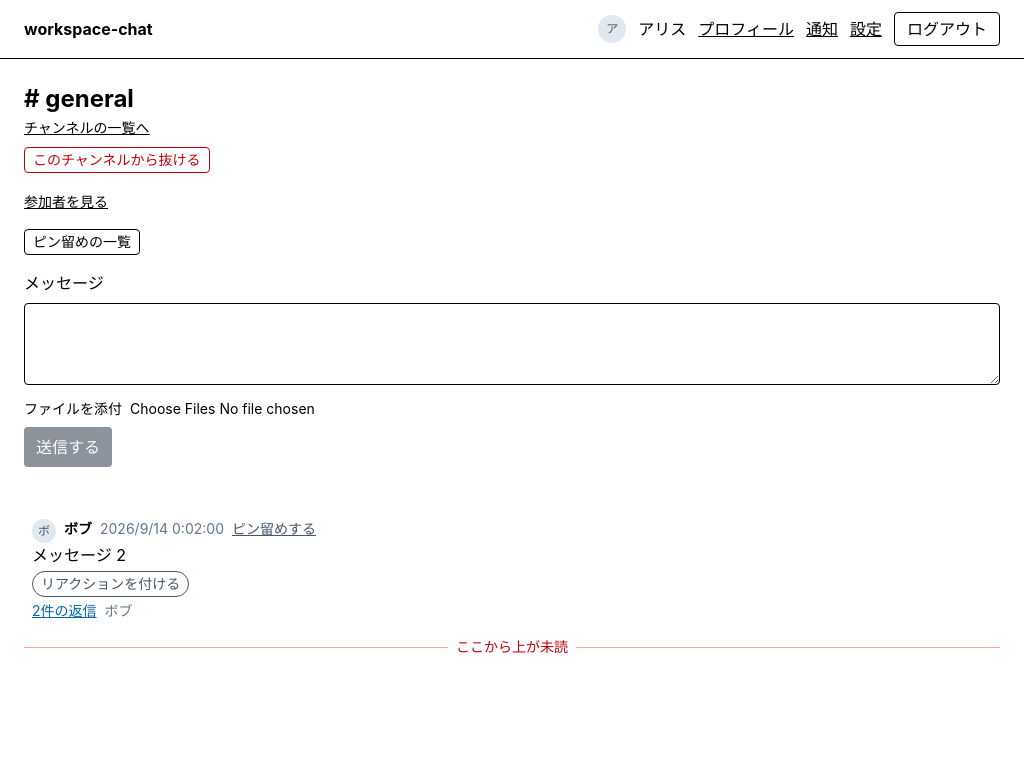
スレッド › 「N件の返信」を押すとスレッドを開き、親を先頭に、返信を上が新しい順に並べる（#608）。返信はトークンを付けて読む
This screenshot has width=1024, height=768.
Click the button "2件の返信" at (64, 611), box [32, 601, 96, 621]
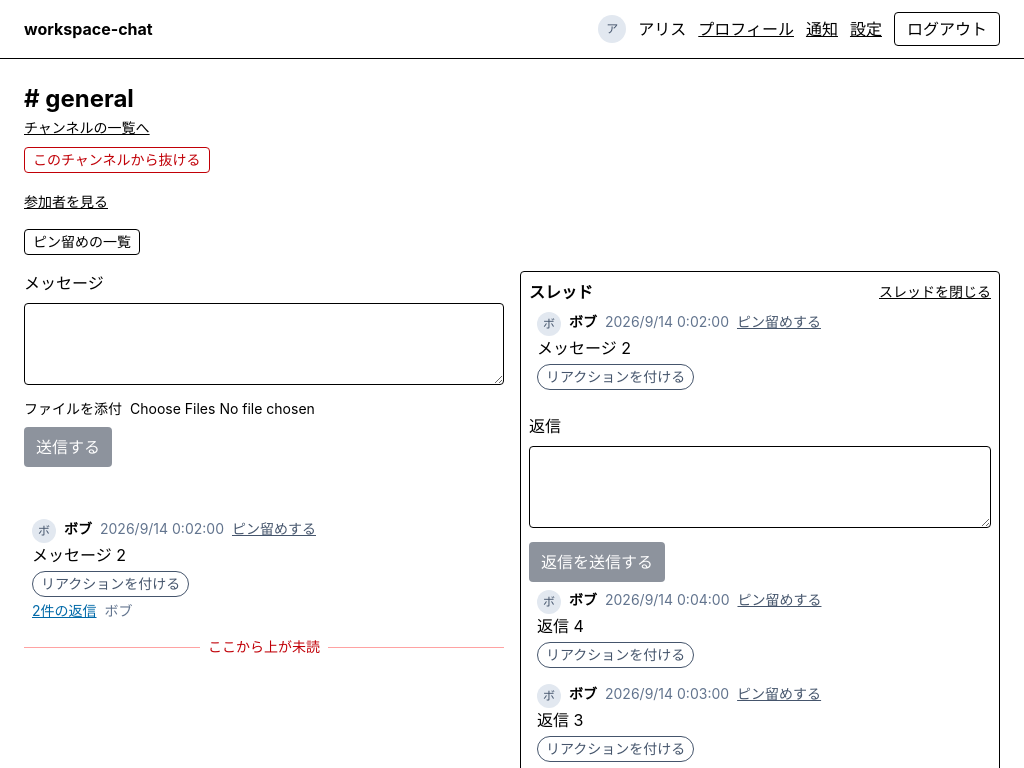
Check: the text "返信 4" is shown, box [537, 616, 584, 636]
Check: the element showing "ボ ボブ 2026/9/14 0:02:00 ピン留めする メッセージ 2 リアクションを付ける" is shown, box [537, 312, 821, 390]
